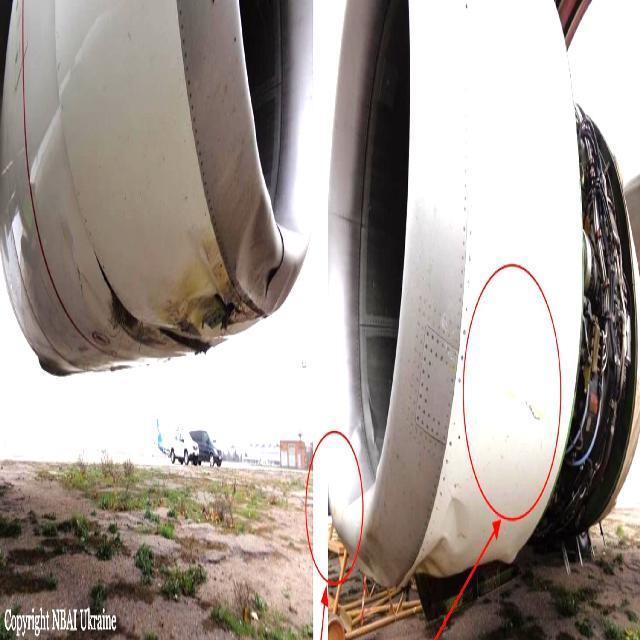crack: (524, 393, 543, 430)
dent: (405, 494, 472, 585)
